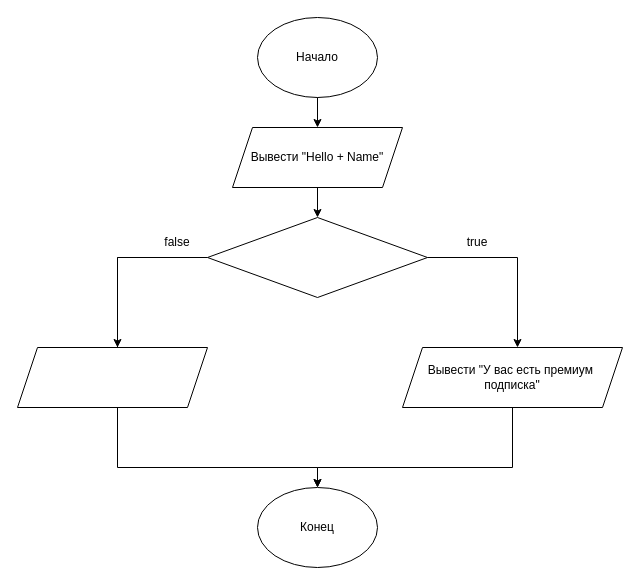
This 640x585 diagram has some shape labels left out. Each missing label, with the box of its shape:
IsPremium: (206, 216, 428, 298)
Вывести рекламу ShowAds(): (16, 346, 208, 408)
